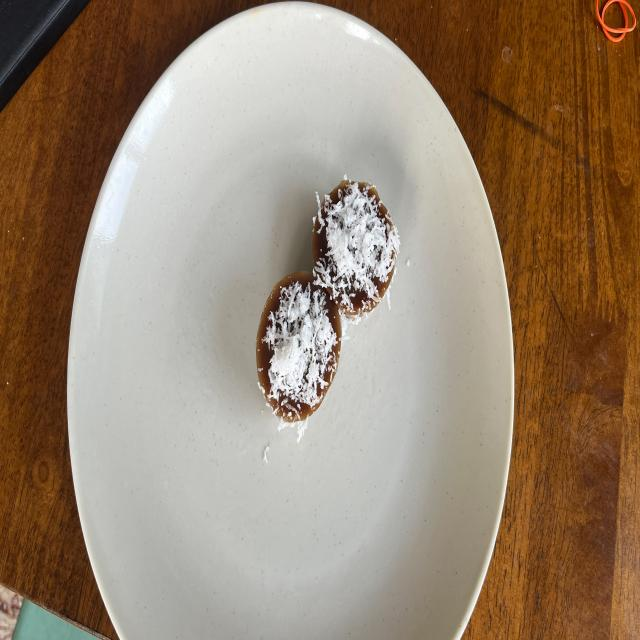Kuih lompang: (256, 271, 341, 422), (312, 178, 400, 318)
